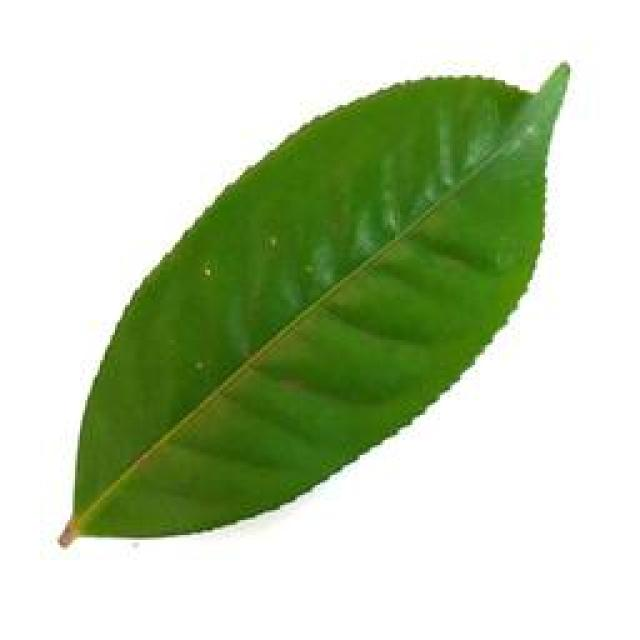Healthy: (52, 60, 576, 559)
